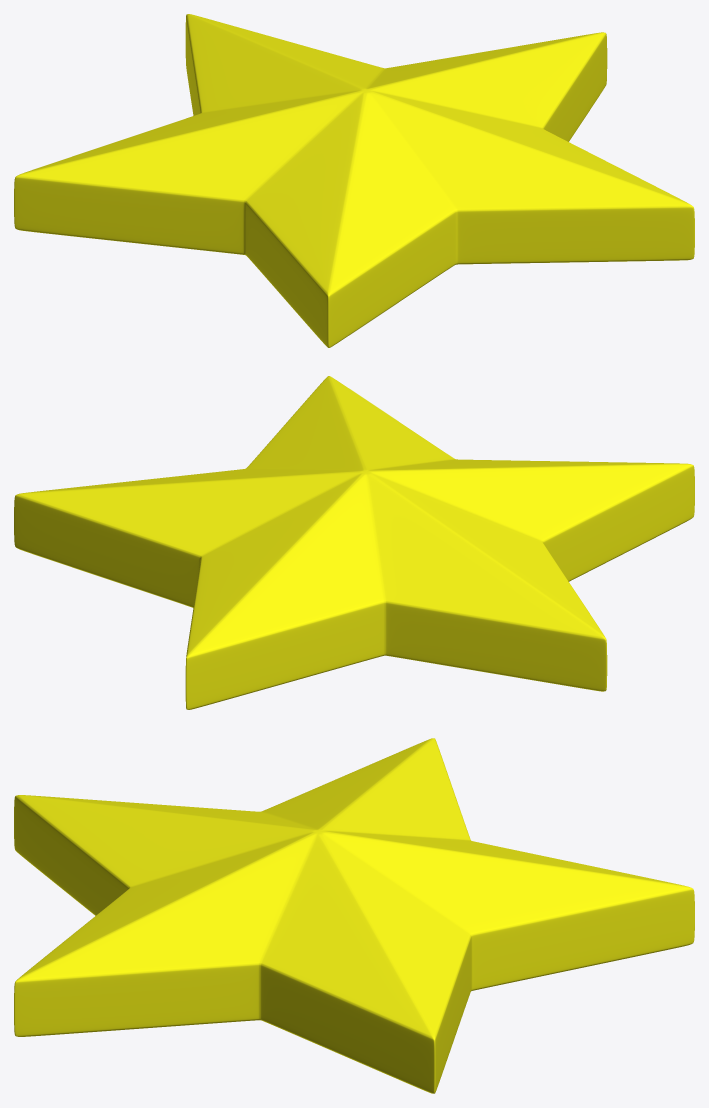
Rendered from star.fbx.
The picture shows the model from 3 angles, top to bottom: view 1: azimuth 30°, elevation 25°; view 2: azimuth 150°, elevation 25°; view 3: azimuth 270°, elevation 25°; orthographic projection. The views are drawn at different scales.
Visible parts, largest first — view 1: Circle; view 2: Circle; view 3: Circle.
Boxes of the visible parts, x1=… form: Circle: x1=14, y1=14, x2=694, y2=347; Circle: x1=14, y1=376, x2=694, y2=709; Circle: x1=14, y1=738, x2=694, y2=1093.
Size of the model in its own units: 189 by 49.03 by 180.
